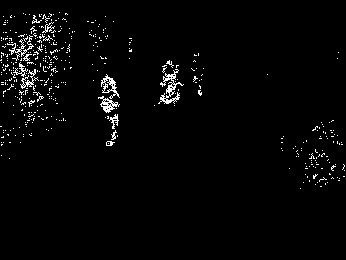person: (97, 72, 121, 148)
